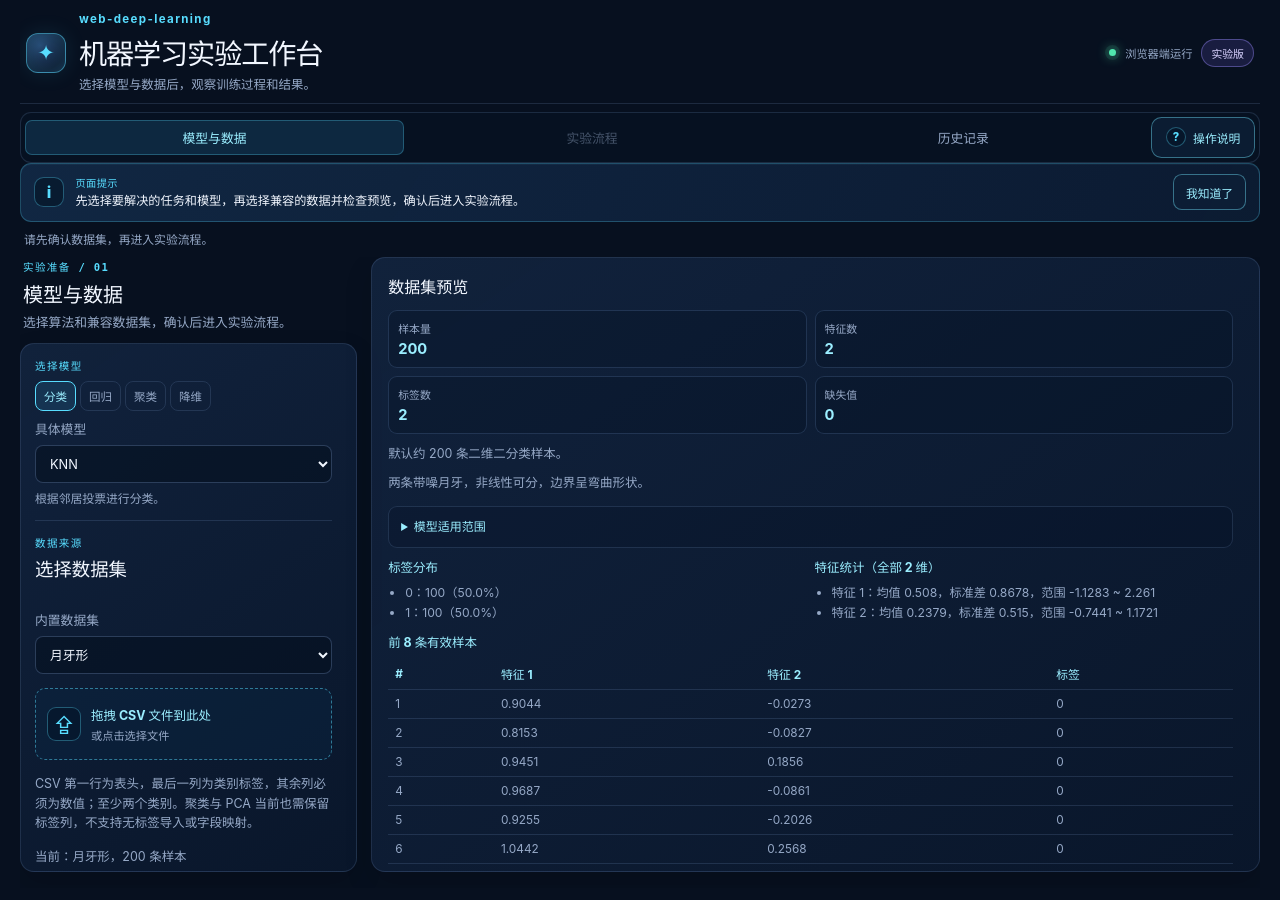
it: 实验工作台 › 选择 CNN 后只呈现图像数据并隐藏不兼容算法
The image size is (1280, 900).
Select "可视化卷积神经网络" in the dropdown labelled "具体模型". click: coordinates (184, 464)
box: 35,445 -> 332,483
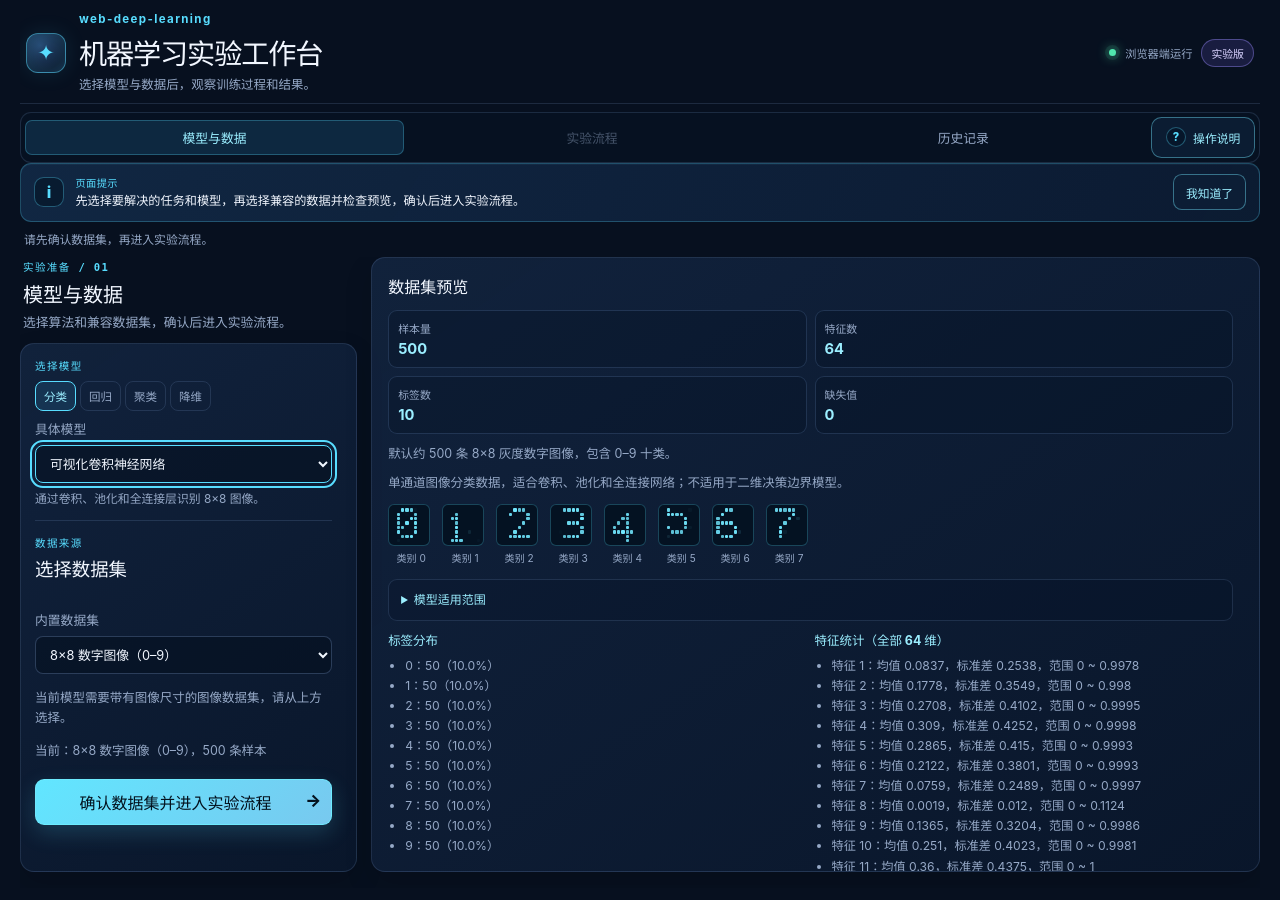
Click the button "确认数据集并进入实验流程 →". click: coordinates (184, 802)
box: 35,778 -> 332,824
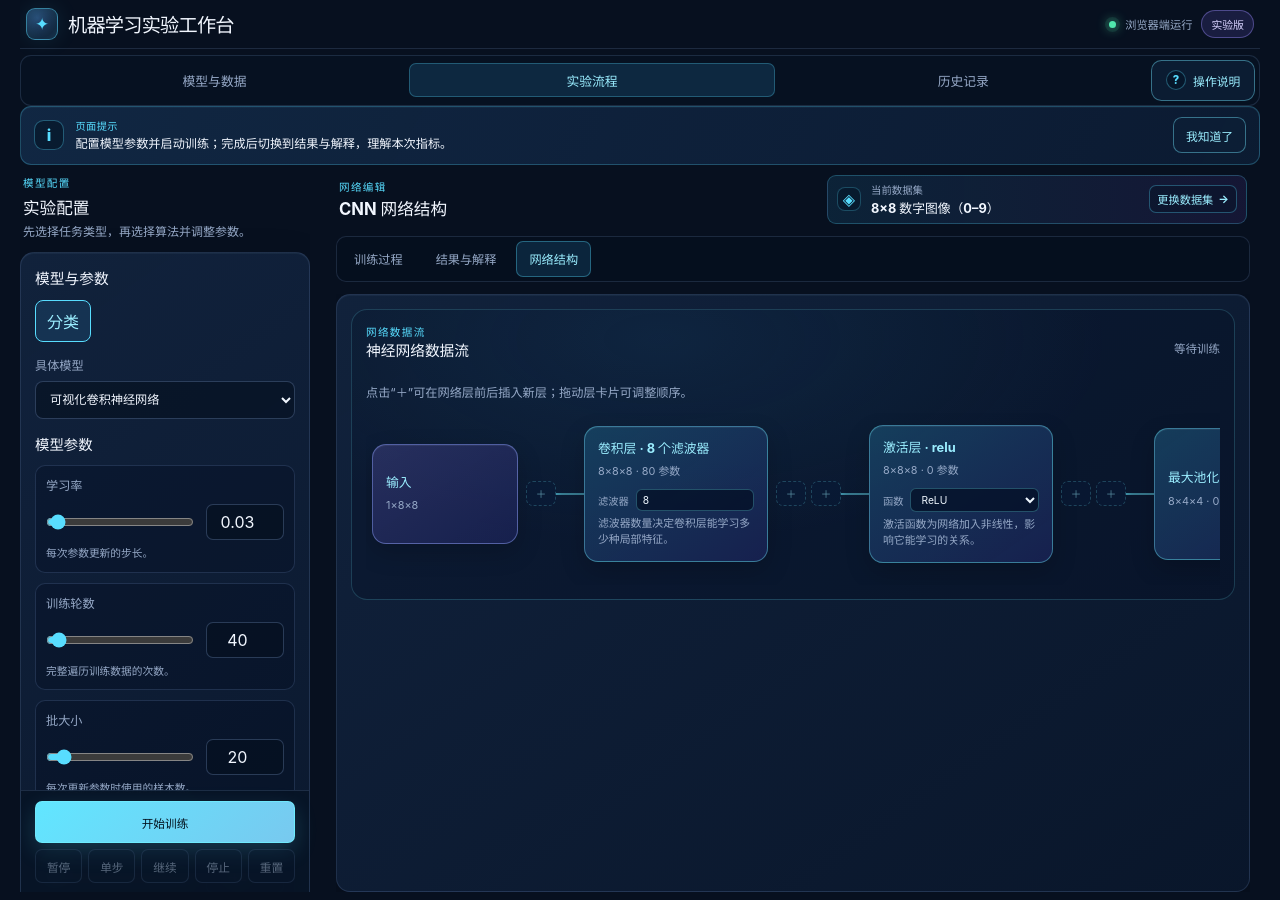
Expected: the dropdown labelled "具体模型" shows "可视化卷积神经网络", 35,381 -> 295,419
Expected: the tab "回归" is gone
